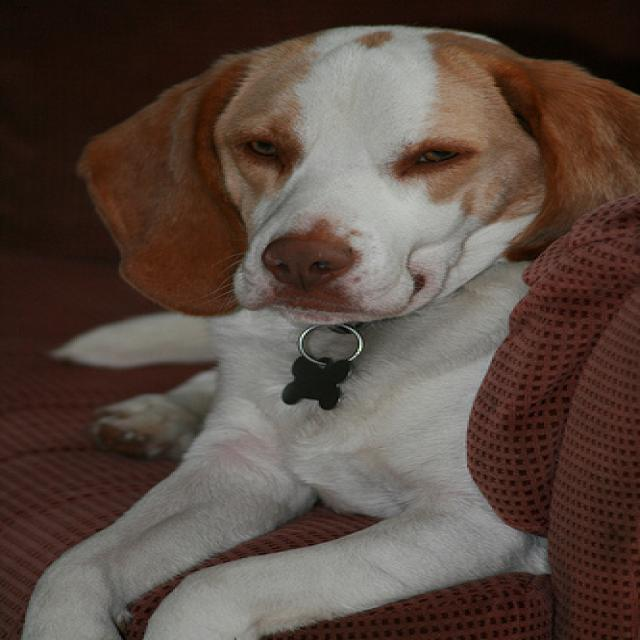dog-beagle: (2, 10, 636, 637)
